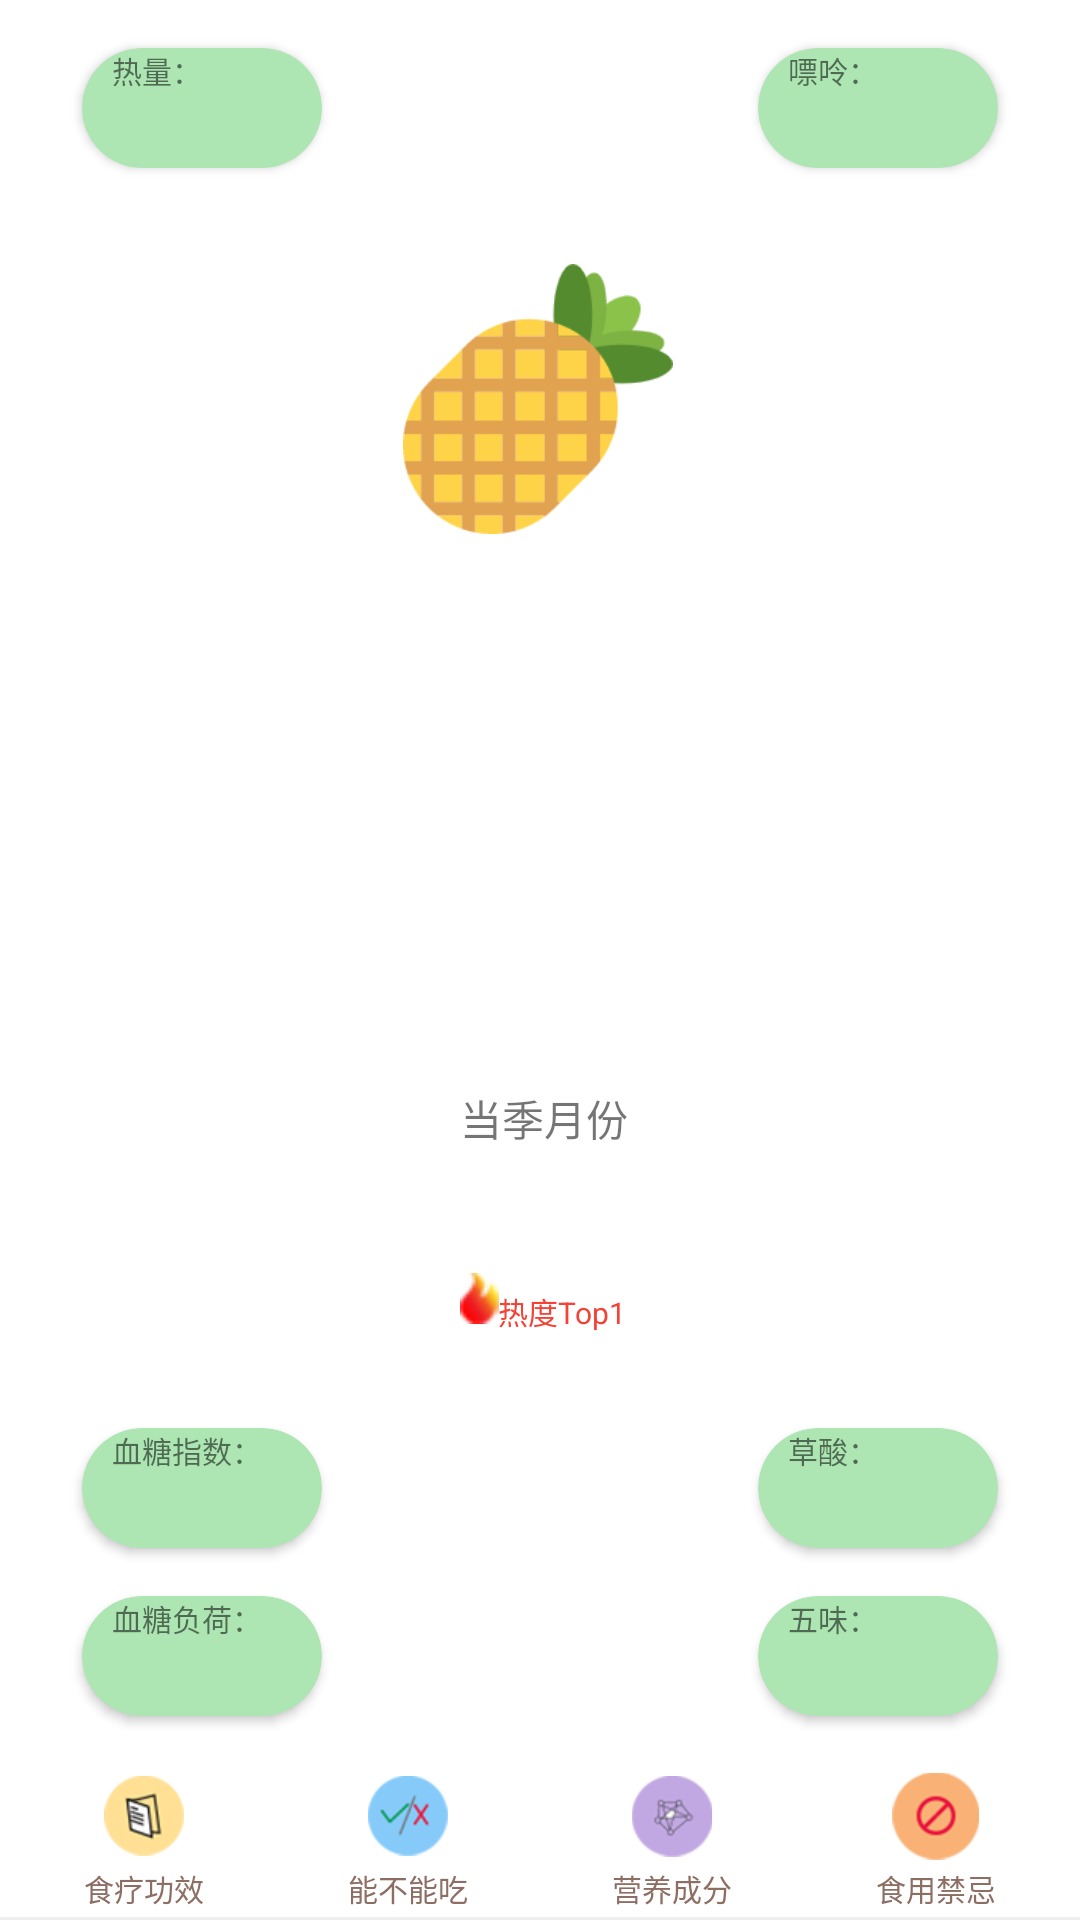

Where icons sit on this 1080x1920 app screen, as BBox(x1, y1, x2, y2):
boluo: BBox(403, 264, 673, 534)
